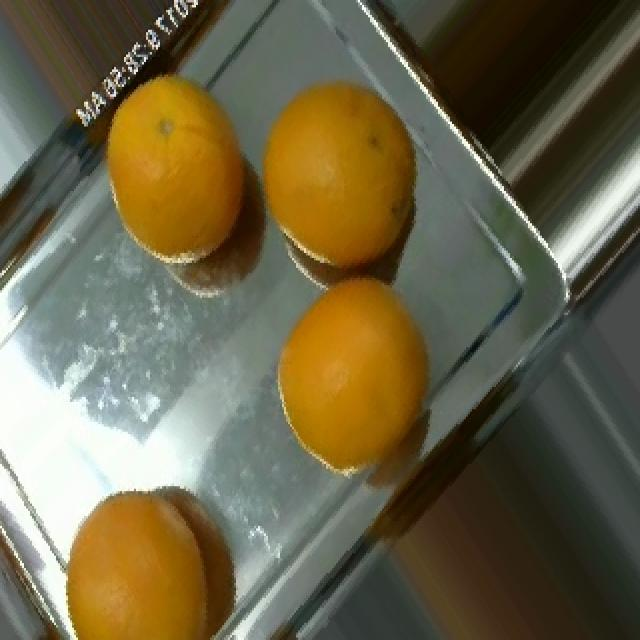Fruit: (78, 94, 278, 295)
